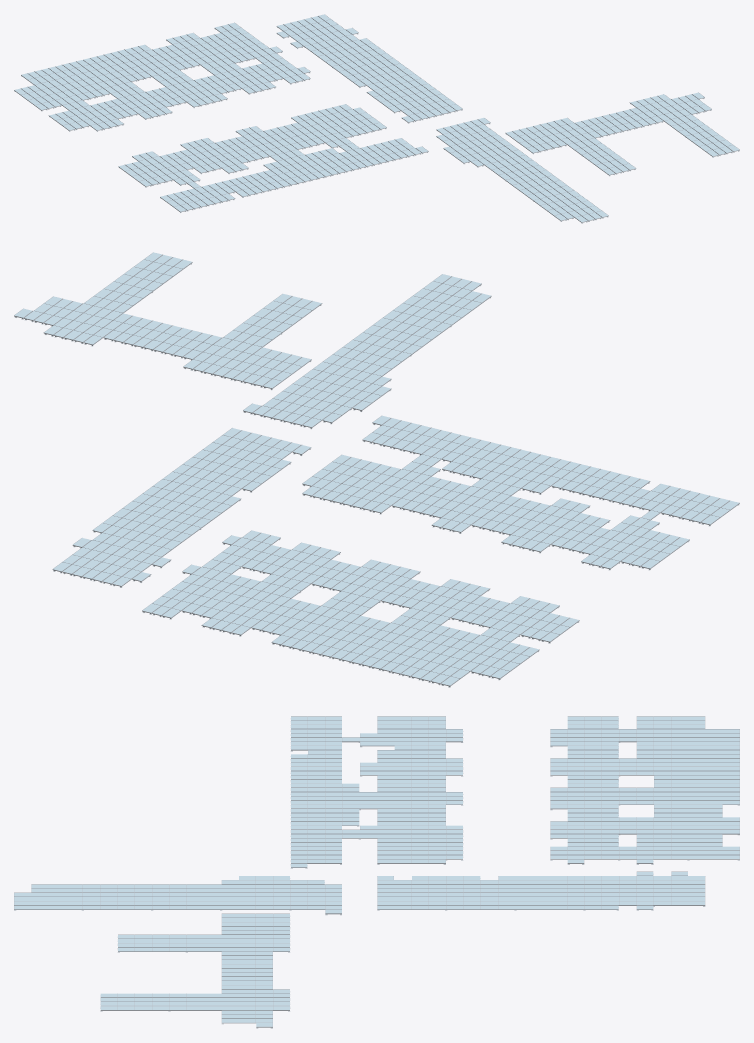
File: SM_MPR3_SolarBank_02_1.fbx
The picture shows the model from 3 angles, top to bottom: view 1: azimuth 30°, elevation 25°; view 2: azimuth 150°, elevation 25°; view 3: azimuth 270°, elevation 25°; orthographic projection. The views are drawn at different scales.
Visible parts, largest first — view 1: SM_MPR3_SolarBank_02_1; view 2: SM_MPR3_SolarBank_02_1; view 3: SM_MPR3_SolarBank_02_1.
Part boxes in pixels (x1,y1,x2,y2): SM_MPR3_SolarBank_02_1: (14, 14, 739, 223); SM_MPR3_SolarBank_02_1: (14, 252, 739, 687); SM_MPR3_SolarBank_02_1: (14, 716, 739, 1028).
Size of the model in its own units: 8281 by 8184 by 24.
